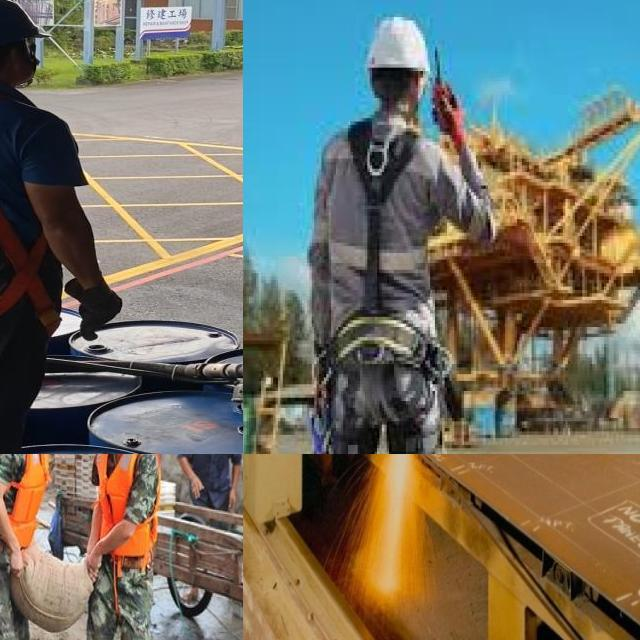Harness: (312, 114, 452, 446), (0, 83, 70, 370)
person: (87, 454, 154, 640), (0, 454, 61, 640), (173, 454, 243, 512)
vest: (92, 454, 153, 562), (0, 454, 50, 533)
